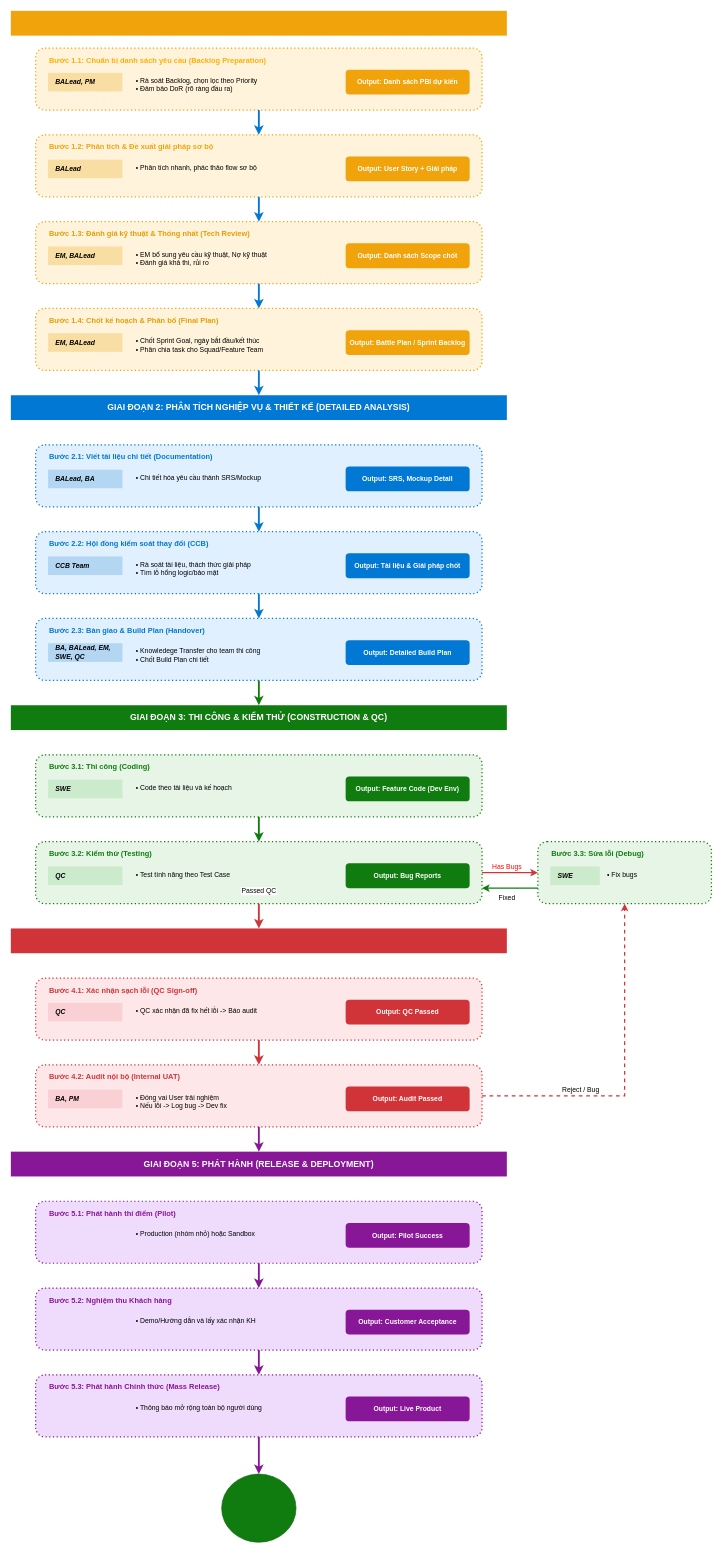
Image size: 722x1553. Some labels were removed from this diagram. Each missing label, with the box of its shape:
GIAI ĐOẠN 1: LẬP KẾ HOẠCH & SÀNG LỌC (PLANNING & GROOMING): (11, 11, 507, 35)
GIAI ĐOẠN 4: DÙNG THỬ & NGHIỆM THU NỘI BỘ (UAT): (11, 928, 507, 953)
✓ HOÀN THÀNH: (221, 1473, 296, 1542)
